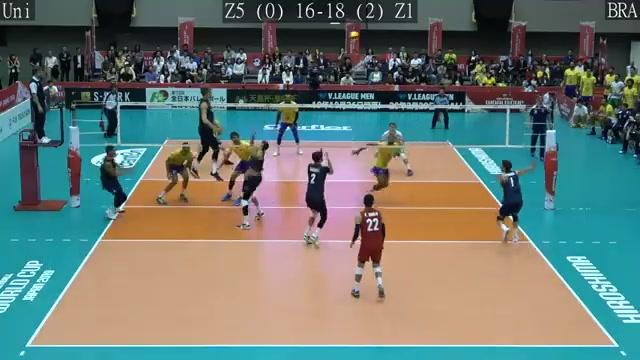ball: (349, 29, 360, 44)
